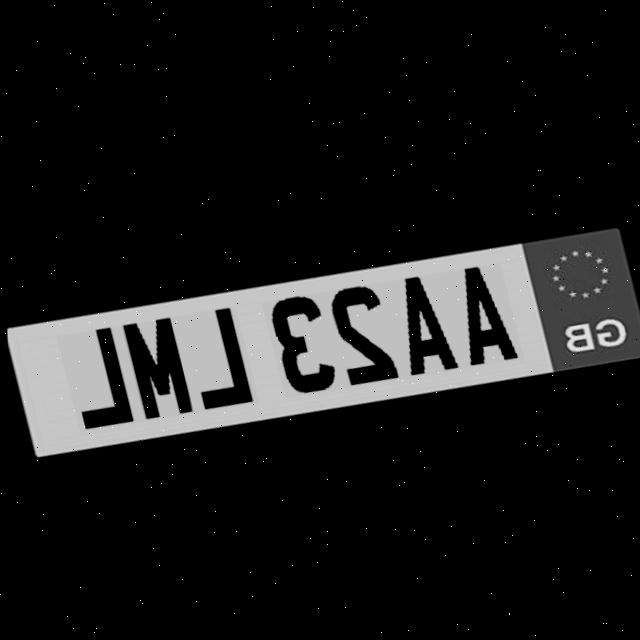license-plates: (7, 228, 640, 456)
